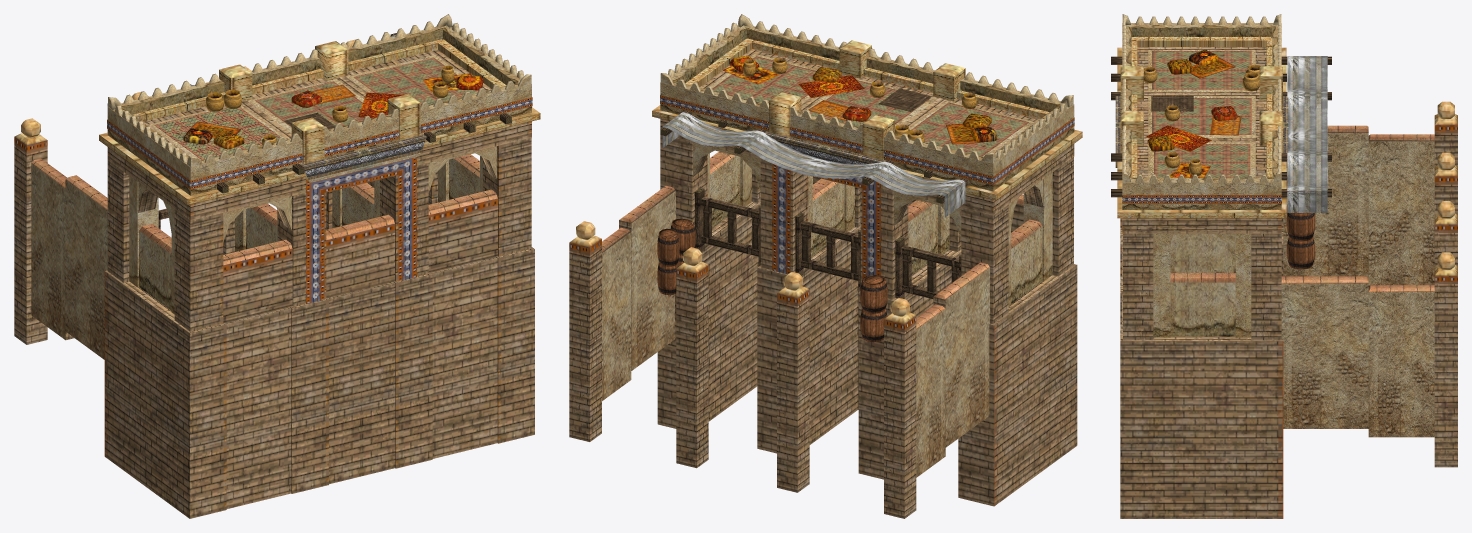
Rendered from pers_stable_elephant.glb.
The picture shows the model from 3 angles, left to right: view 1: azimuth 30°, elevation 25°; view 2: azimuth 150°, elevation 25°; view 3: azimuth 270°, elevation 25°; orthographic projection. The views are drawn at different scales.
Size of the model in its own units: 29.98 by 29.34 by 26.63.
1 material, 1 textured.
